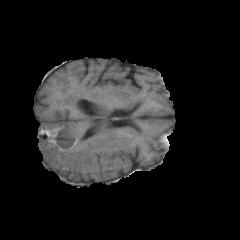glioma: (38, 96, 130, 179)
